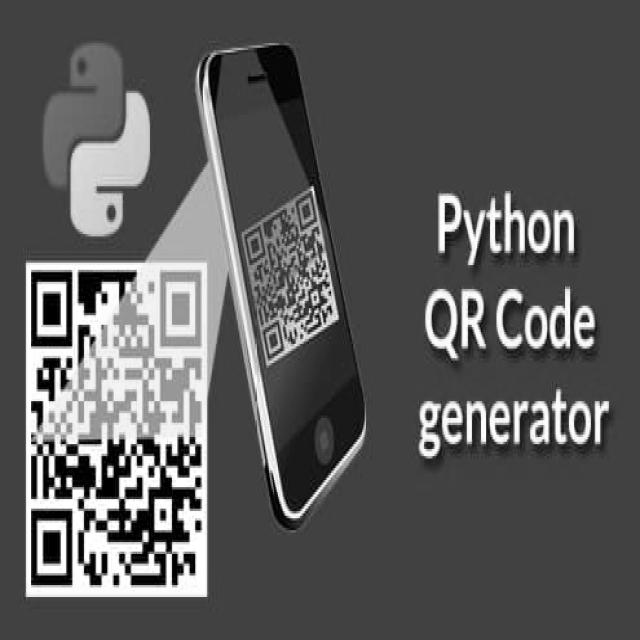QR-codes: (25, 262, 208, 597), (238, 184, 341, 365)
